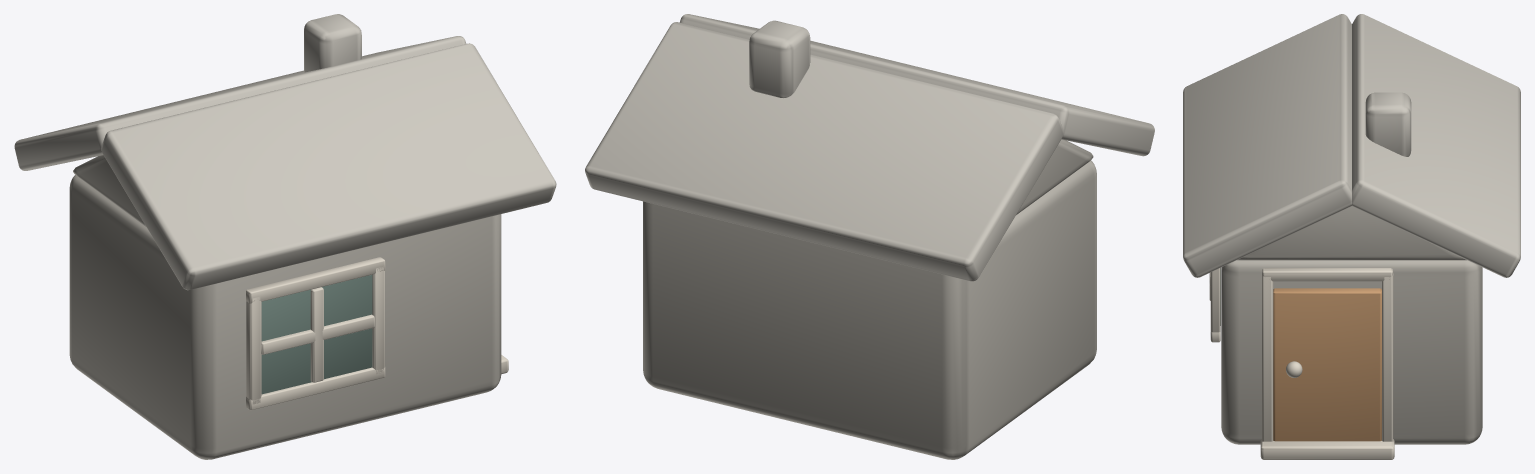
The model's file is ev-kucuk.glb.
3 views of the same model, side by side, from view 1: azimuth 30°, elevation 25°; view 2: azimuth 150°, elevation 25°; view 3: azimuth 270°, elevation 25° (orthographic). The views are drawn at different scales.
Parts seen in each view (by area): view 1: 67R_EV_KUCUK_01_BODY; view 2: 67R_EV_KUCUK_01_BODY; view 3: 67R_EV_KUCUK_01_BODY.
Part boxes in pixels (bbox=[...]): 67R_EV_KUCUK_01_BODY: bbox=[14, 14, 556, 459]; 67R_EV_KUCUK_01_BODY: bbox=[585, 14, 1154, 459]; 67R_EV_KUCUK_01_BODY: bbox=[1183, 14, 1520, 459].
Bounding box in the file's own units: 2.66 × 2.26 × 2.22.
